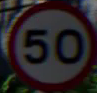Speed limit: (6, 3, 87, 80)
